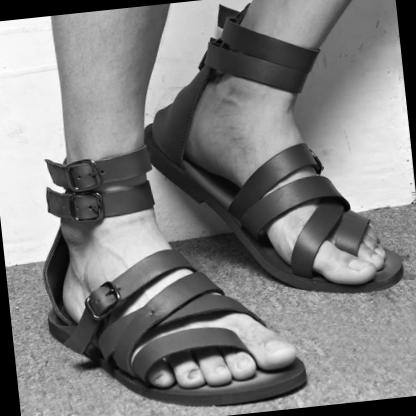ankle: (69, 226, 82, 241), (224, 88, 232, 99)
heel: (62, 295, 69, 306), (167, 133, 172, 142)
left_foot: (45, 158, 301, 413)
pinky: (154, 376, 165, 385), (374, 230, 379, 236)
right_foot: (157, 60, 404, 312)
toe: (279, 348, 290, 358), (359, 267, 370, 274)
